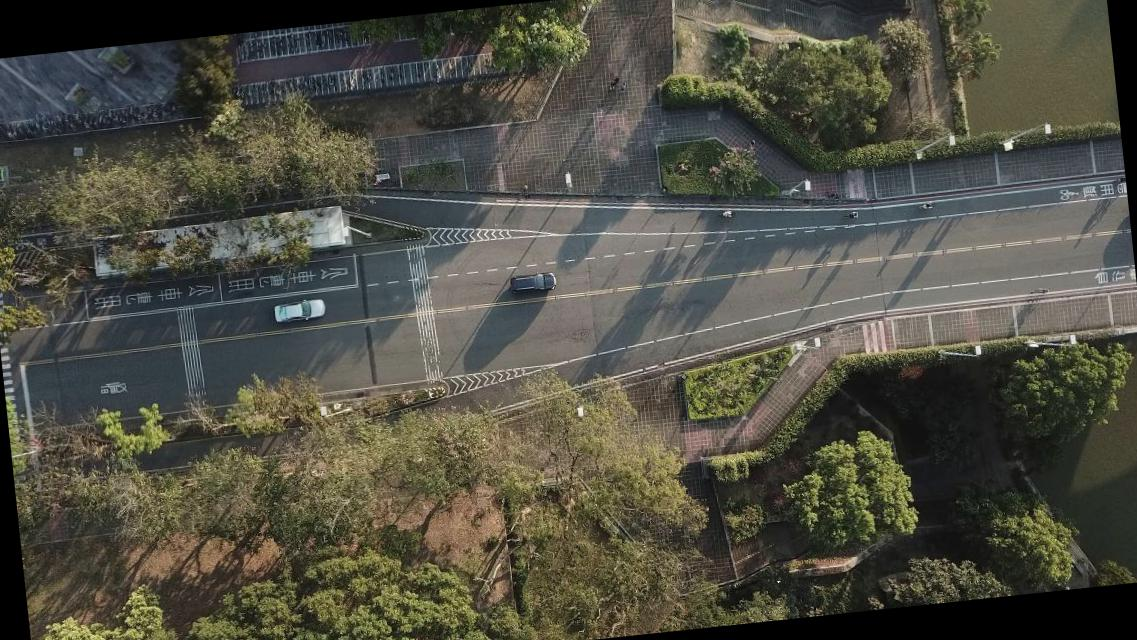vehicle: (272, 296, 326, 324), (509, 270, 558, 293)
